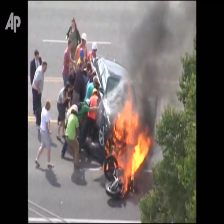fire_h: (104, 79, 150, 193)
fire_l: (105, 163, 109, 170)
